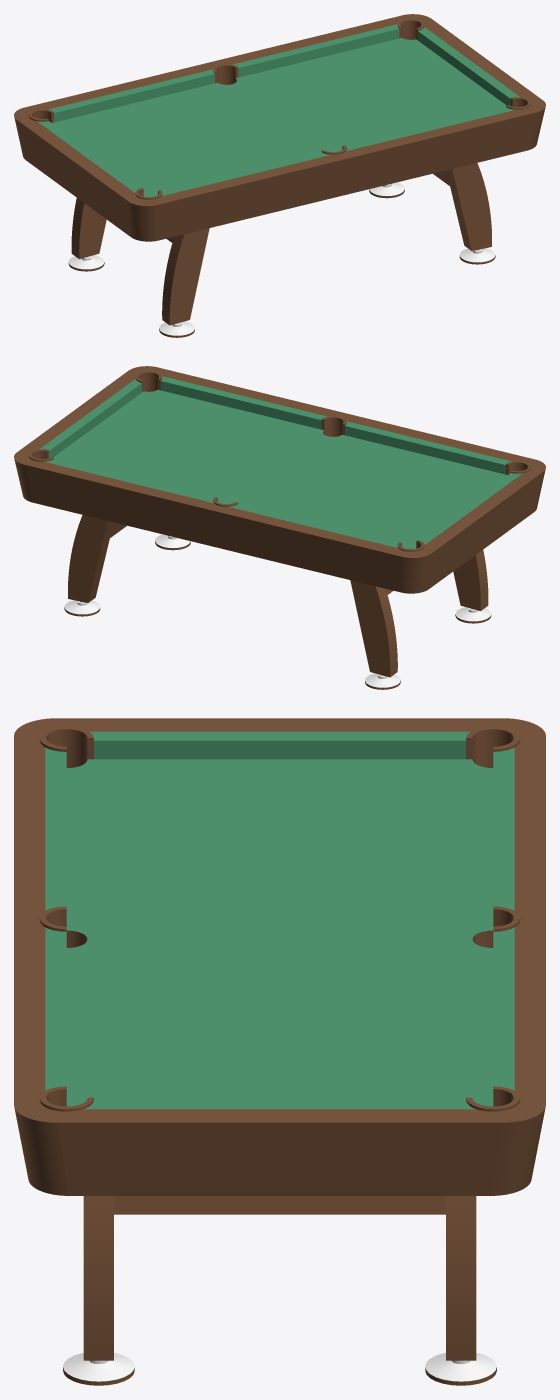
Rendered from pool-table.glb.
The picture shows the model from 3 angles, top to bottom: view 1: azimuth 30°, elevation 25°; view 2: azimuth 150°, elevation 25°; view 3: azimuth 270°, elevation 25°; orthographic projection. The views are drawn at different scales.
Parts seen in each view (by area): view 1: Mesh45 Group1 Model, Mesh3 Group3 Group1 Model, Mesh7 Group5 Group1 Model, Mesh1 Group2 Group1 Model, Mesh18 patte2 Group1 Model, Mesh27 patte3 Group1 Model, Mesh9 patte1 Group1 Model, Mesh36 patte4 Group1 Model; view 2: Mesh45 Group1 Model, Mesh1 Group2 Group1 Model, Mesh5 Group4 Group1 Model, Mesh3 Group3 Group1 Model, Mesh36 patte4 Group1 Model, Mesh9 patte1 Group1 Model, Mesh27 patte3 Group1 Model, Mesh18 patte2 Group1 Model; view 3: Mesh45 Group1 Model, Mesh46 Group1 Model, Mesh5 Group4 Group1 Model, Mesh7 Group5 Group1 Model, Mesh18 patte2 Group1 Model, Mesh36 patte4 Group1 Model.
Part boxes in pixels (x1=…): Mesh45 Group1 Model: x1=14, y1=14, x2=545, y2=241; Mesh3 Group3 Group1 Model: x1=162, y1=228, x2=209, y2=325; Mesh7 Group5 Group1 Model: x1=446, y1=163, x2=491, y2=250; Mesh1 Group2 Group1 Model: x1=71, y1=198, x2=106, y2=258; Mesh18 patte2 Group1 Model: x1=459, y1=248, x2=495, y2=264; Mesh27 patte3 Group1 Model: x1=68, y1=255, x2=104, y2=271; Mesh9 patte1 Group1 Model: x1=159, y1=321, x2=194, y2=337; Mesh36 patte4 Group1 Model: x1=369, y1=182, x2=404, y2=198; Mesh45 Group1 Model: x1=14, y1=366, x2=545, y2=593; Mesh1 Group2 Group1 Model: x1=350, y1=580, x2=397, y2=677; Mesh5 Group4 Group1 Model: x1=68, y1=515, x2=113, y2=602; Mesh3 Group3 Group1 Model: x1=453, y1=550, x2=488, y2=610; Mesh36 patte4 Group1 Model: x1=64, y1=600, x2=100, y2=616; Mesh9 patte1 Group1 Model: x1=455, y1=607, x2=491, y2=623; Mesh27 patte3 Group1 Model: x1=365, y1=673, x2=400, y2=689; Mesh18 patte2 Group1 Model: x1=155, y1=534, x2=190, y2=550; Mesh45 Group1 Model: x1=14, y1=718, x2=545, y2=1195; Mesh46 Group1 Model: x1=114, y1=1196, x2=445, y2=1214; Mesh5 Group4 Group1 Model: x1=446, y1=1196, x2=476, y2=1360; Mesh7 Group5 Group1 Model: x1=83, y1=1196, x2=113, y2=1360; Mesh18 patte2 Group1 Model: x1=63, y1=1353, x2=134, y2=1385; Mesh36 patte4 Group1 Model: x1=425, y1=1353, x2=496, y2=1385.
Size of the model in its own units: 2.1 by 0.738 by 1.17.
